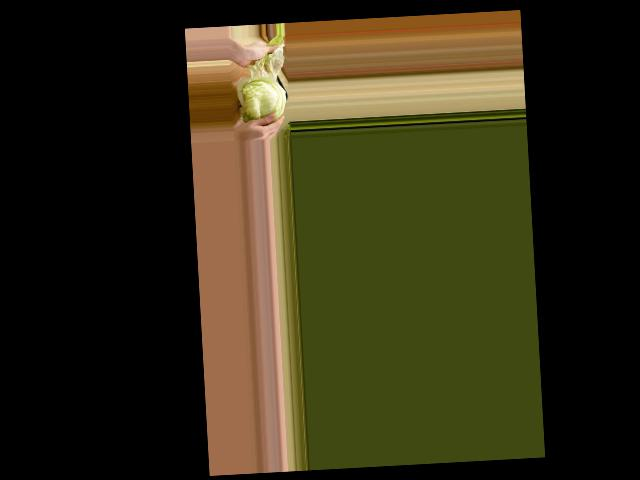lettuce: (232, 64, 289, 127)
